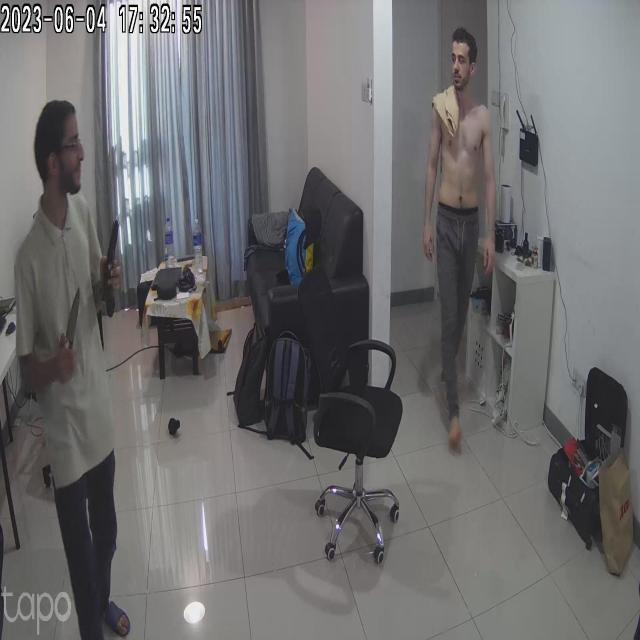Gun: (99, 216, 148, 300)
Knife: (60, 288, 98, 358)
